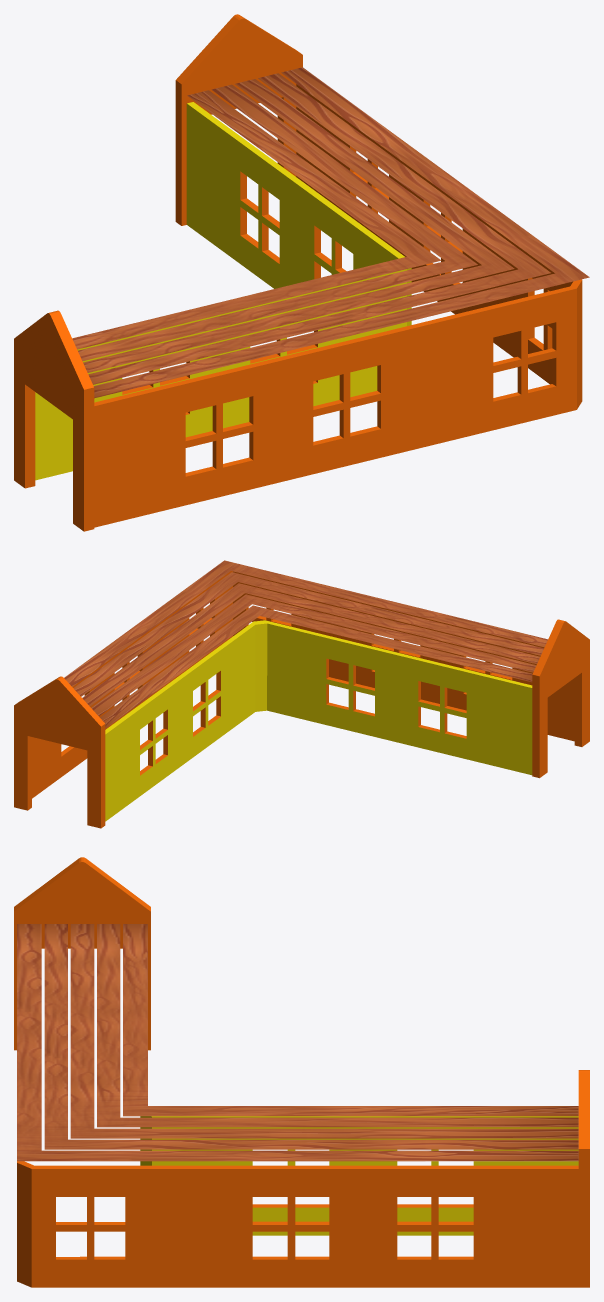
Rendered from playground equipment4.fbx.
3 views of the same model, one above another, from view 1: azimuth 30°, elevation 25°; view 2: azimuth 150°, elevation 25°; view 3: azimuth 270°, elevation 25° (orthographic). The views are drawn at different scales.
Parts seen in each view (by area): view 1: Cube.004, Plane.001, Cube.005, Cube.006; view 2: Cube.004, Plane.001, Cube.006, Cube.005; view 3: Cube.004, Plane.001, Cube.005, Cube.006.
Part boxes in pixels (x1=…): Cube.004: x1=35, y1=84, x2=582, y2=527; Plane.001: x1=72, y1=67, x2=589, y2=398; Cube.005: x1=14, y1=310, x2=94, y2=531; Cube.006: x1=175, y1=14, x2=302, y2=225; Cube.004: x1=32, y1=571, x2=574, y2=821; Plane.001: x1=64, y1=560, x2=547, y2=728; Cube.006: x1=14, y1=676, x2=105, y2=828; Cube.005: x1=532, y1=619, x2=589, y2=778; Cube.004: x1=17, y1=1116, x2=578, y2=1287; Plane.001: x1=17, y1=924, x2=578, y2=1161; Cube.005: x1=14, y1=857, x2=150, y2=1050; Cube.006: x1=578, y1=1070, x2=589, y2=1287.
Bounding box in the file's own units: 306 × 111 × 308.
Materials: 4 (1 with a texture image).
